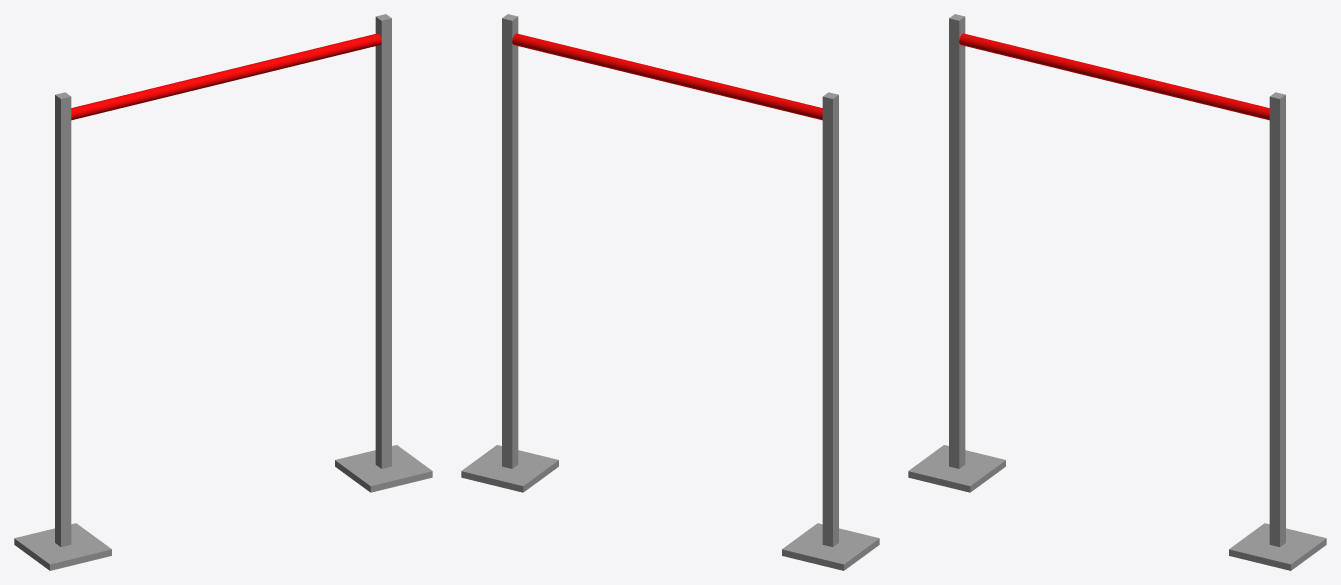
Rendered from M1-Bar_1980mm.dae.
3 renders of one model, left to right at view 1: azimuth 30°, elevation 25°; view 2: azimuth 150°, elevation 25°; view 3: azimuth 330°, elevation 25°, orthographic.
Parts seen in each view (by area): view 1: ID2; view 2: ID2; view 3: ID2.
Part boxes in pixels (x1,y1,x2,y2): ID2: (14,14,432,570); ID2: (461,14,879,570); ID2: (908,14,1326,570).
Bounding box in the file's own units: 1.85 × 0.3 × 2.1.
